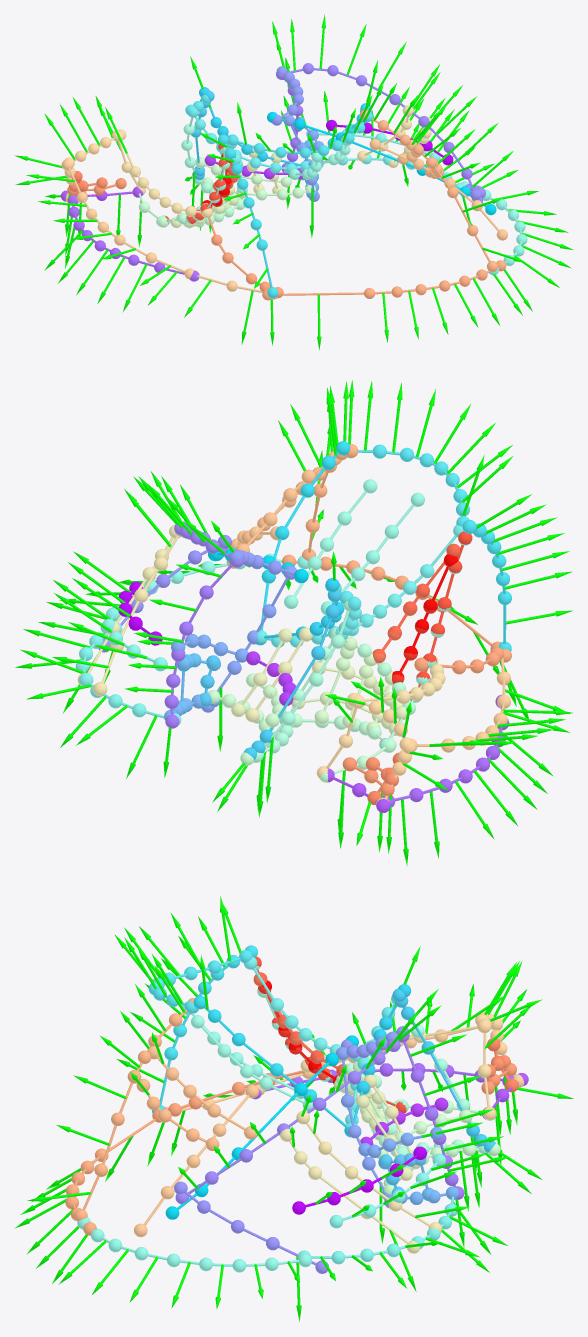
File: author1_building.gltf
The picture shows the model from 3 angles, top to bottom: view 1: azimuth 30°, elevation 25°; view 2: azimuth 150°, elevation 25°; view 3: azimuth 270°, elevation 25°; orthographic projection. The views are drawn at different scales.
Bounding box in the file's own units: 0.8802 × 0.4719 × 0.8198.
